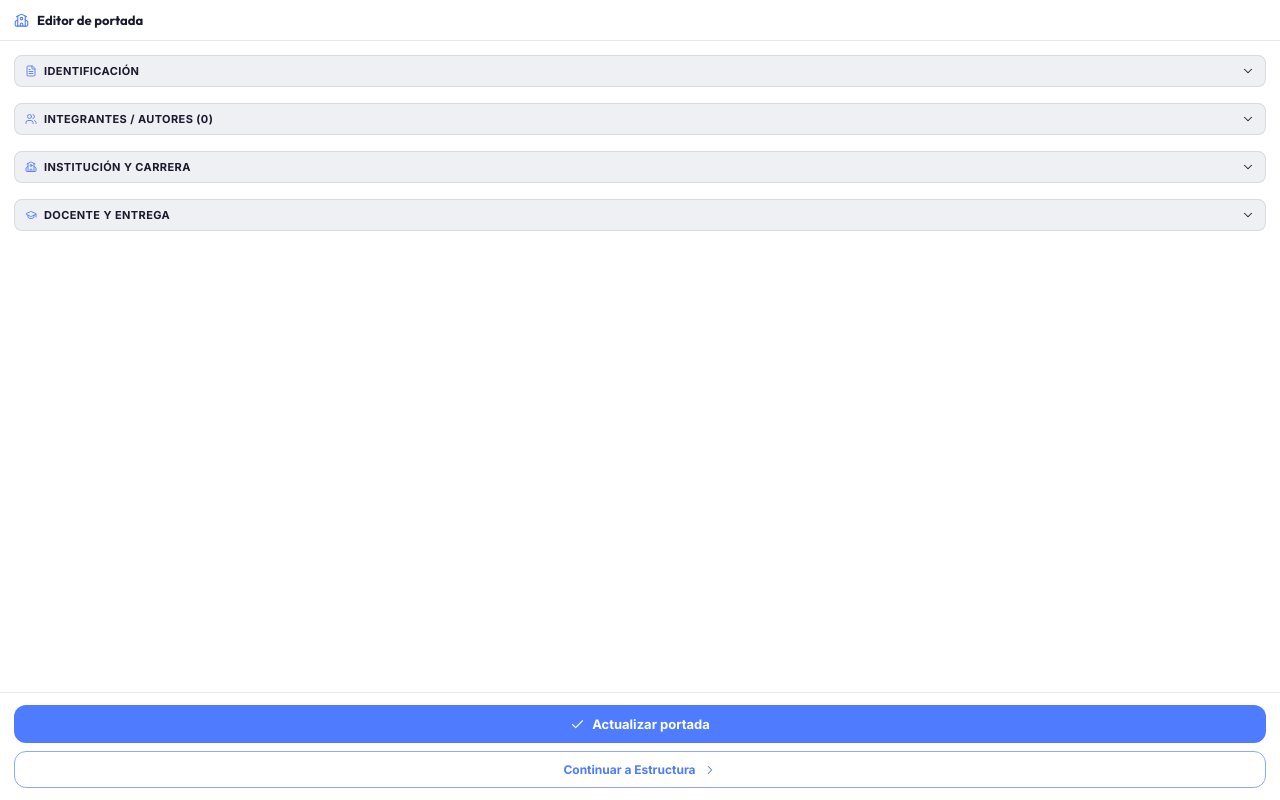
Test case: editor de portada: datos inferidos y secciones › la fecha del backend con "del año" llega al selector como YYYY-MM-DD
The width and height of the screenshot is (1280, 800).
Step 1. Click the button "Docente y entrega" → click(107, 215), box [14,199,1266,231]
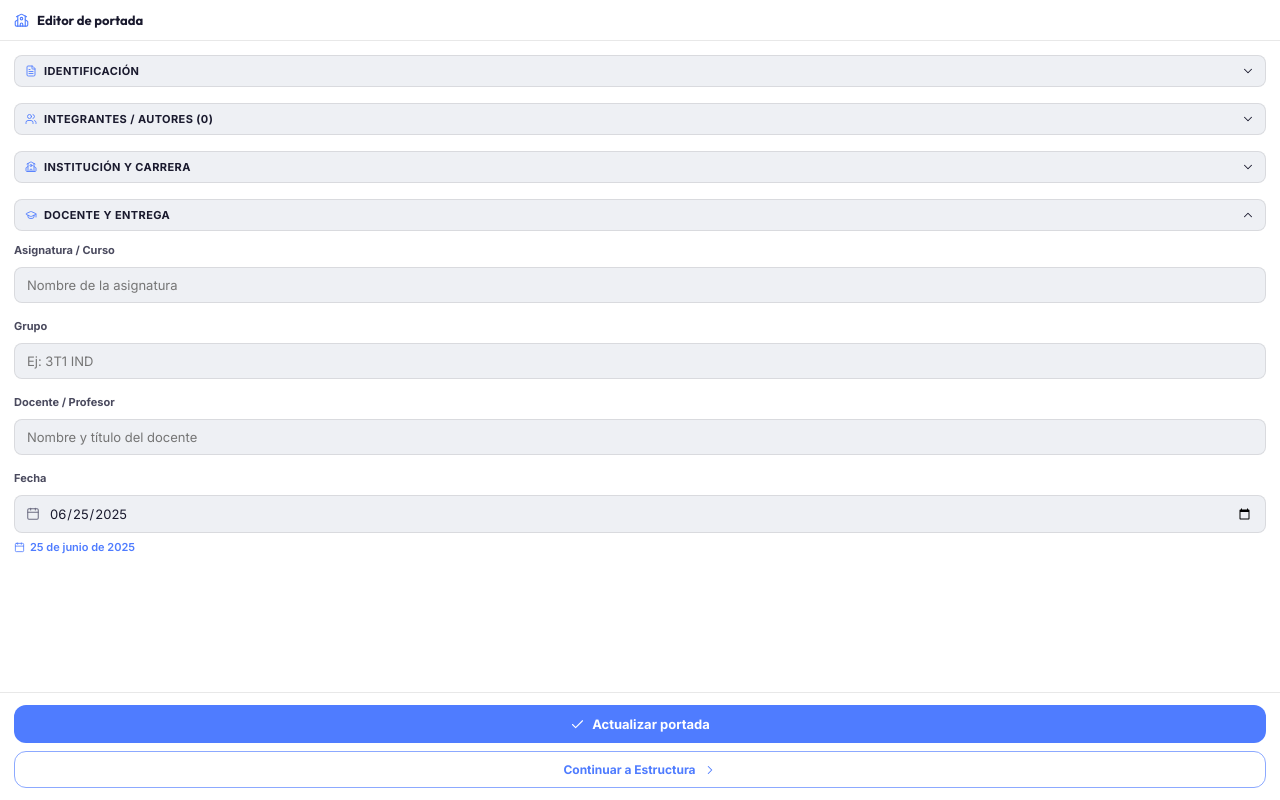
expect the date field holds "2025-06-25": met, box [14,495,1266,533]
